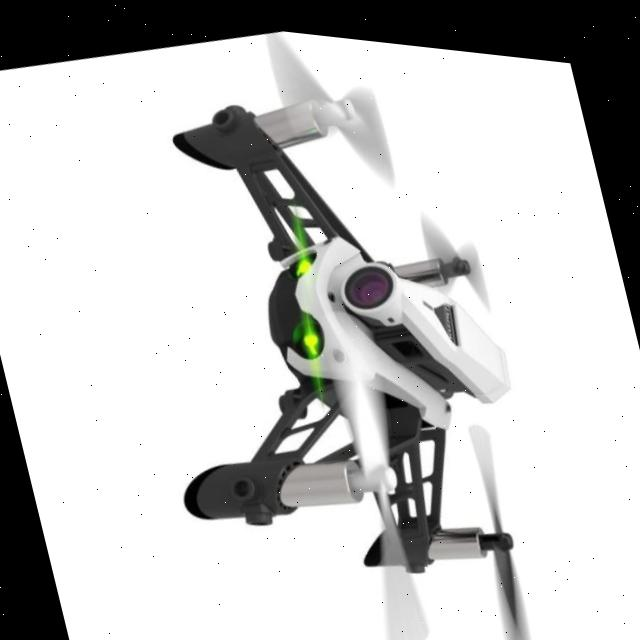drones: (58, 5, 613, 640)
